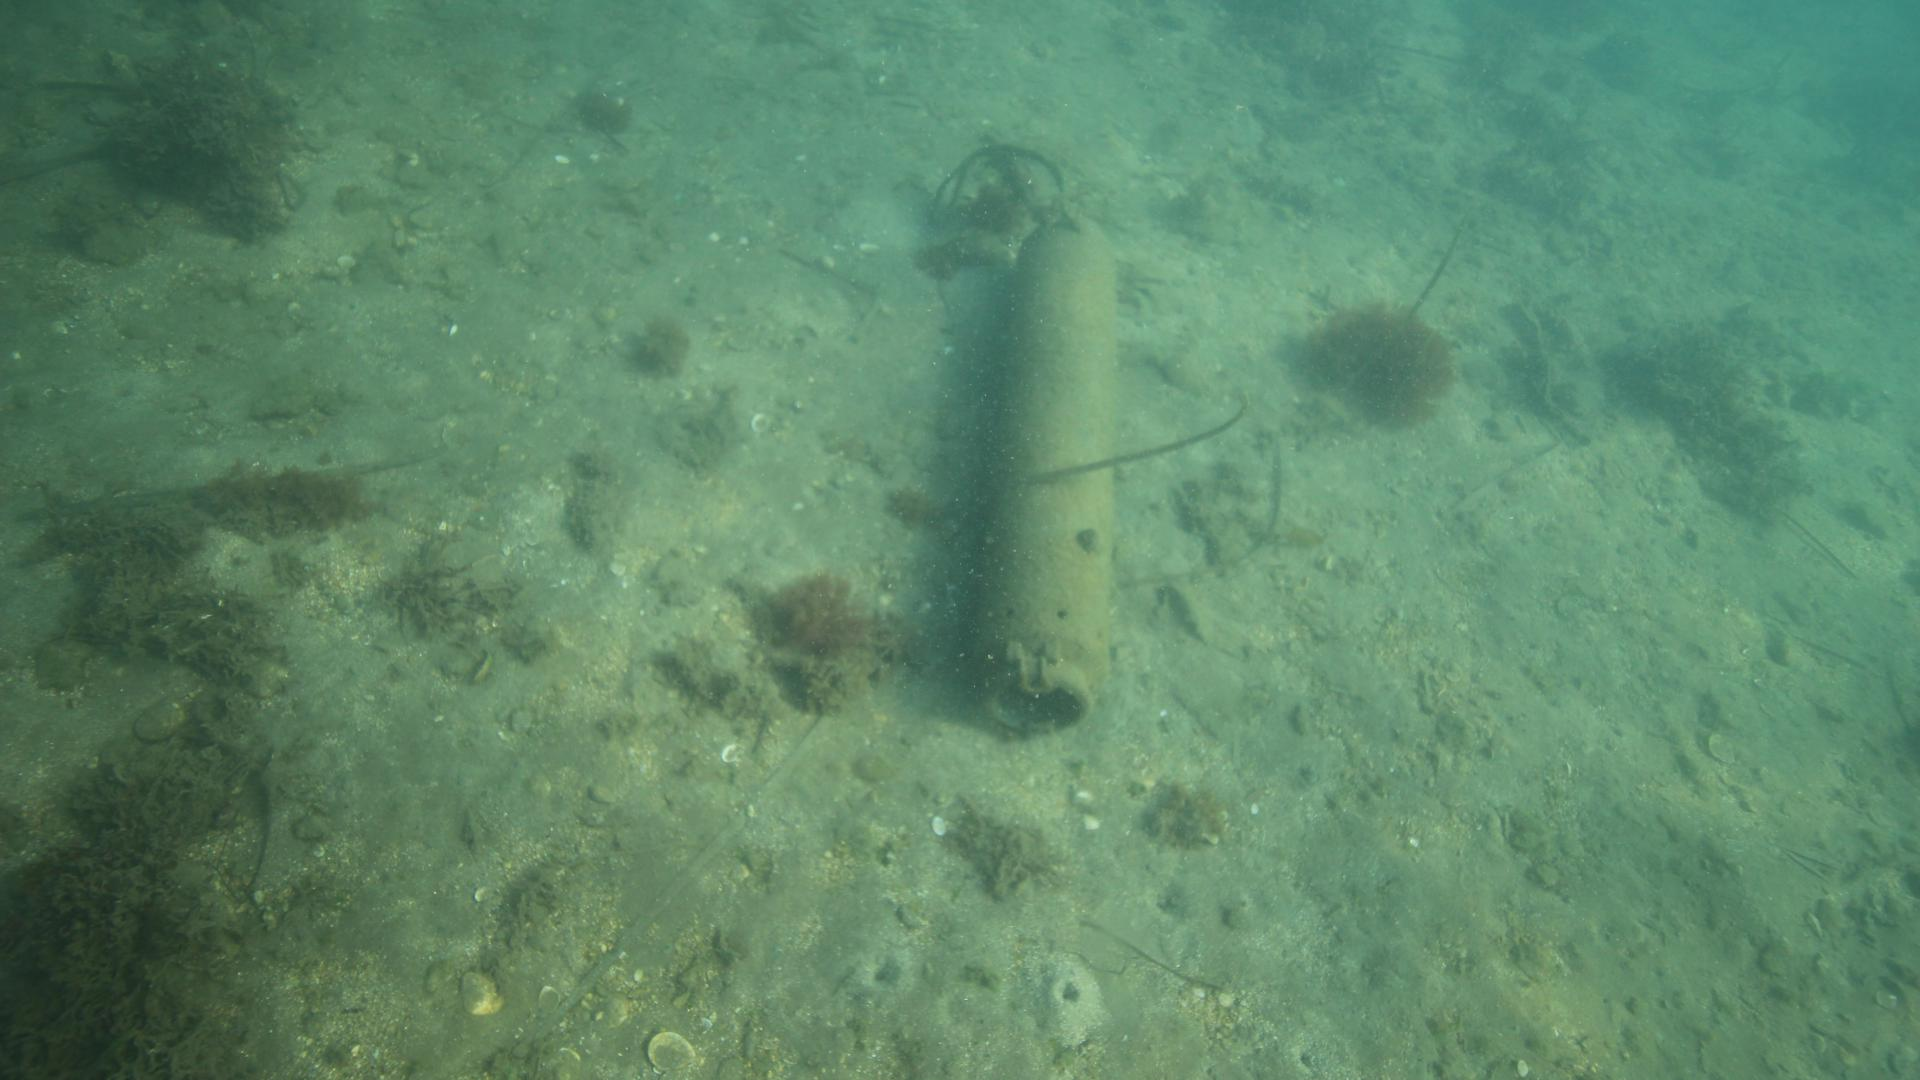bundle of ropes: (923, 142, 1084, 235)
eel fish trap: (975, 214, 1114, 740)
